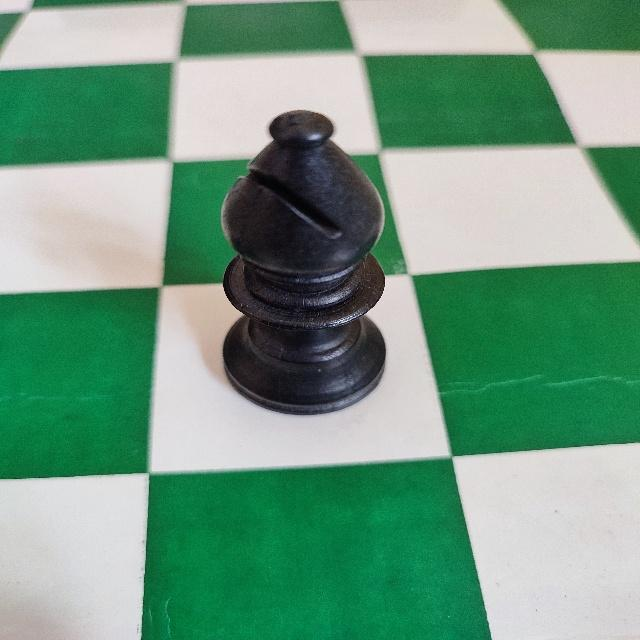Bishop: (215, 106, 389, 422)
